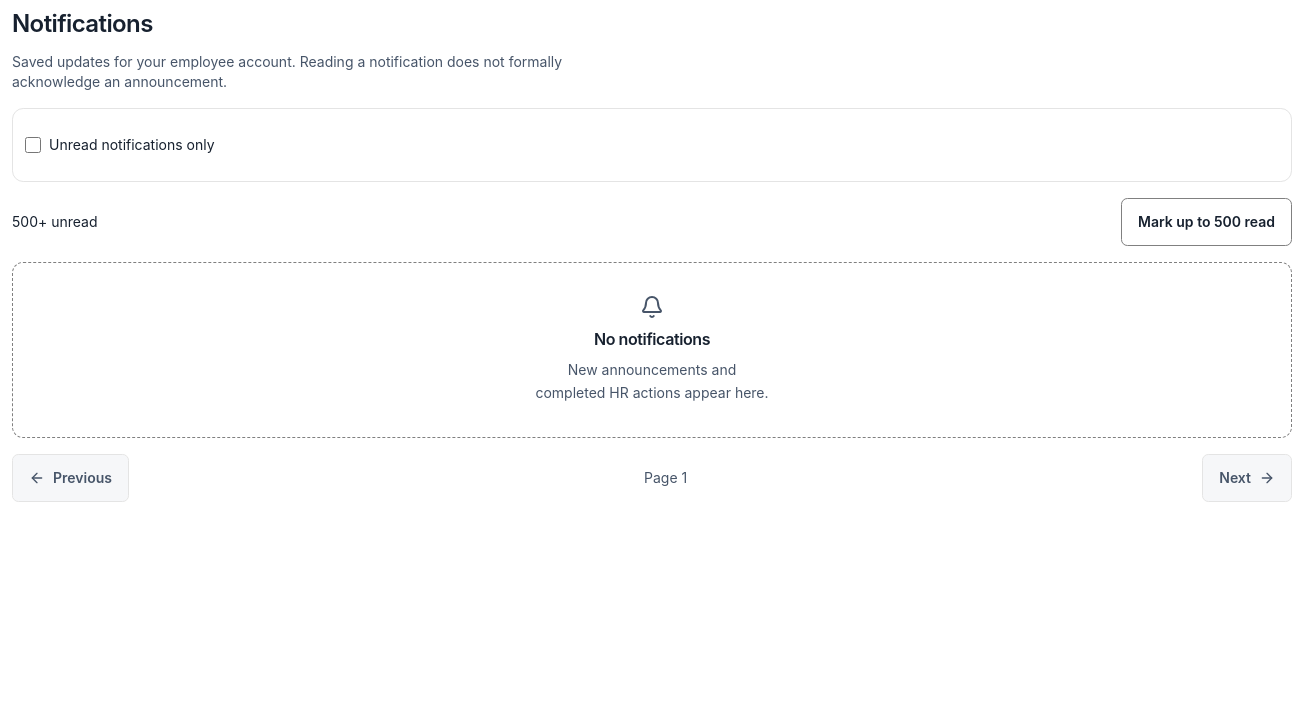
shows bounded unread counts and offers another explicit batch without acknowledging notices
This screenshot has width=1304, height=720.
Expected: the text "500+ unread" is shown, [12,212,98,232]
Click the button "Mark up to 500 read": (1207, 222) [1121,198,1292,246]
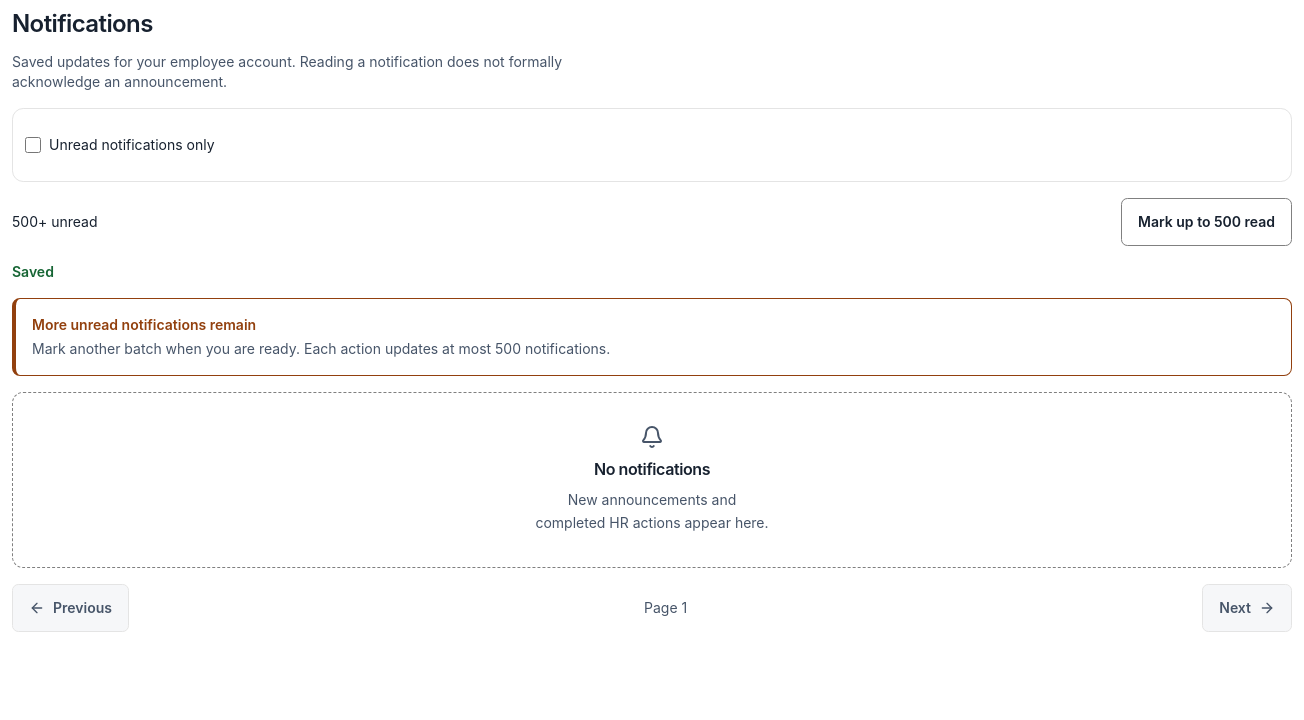
Now the text "More unread notifications remain" is shown, box [32,316,256,333]
